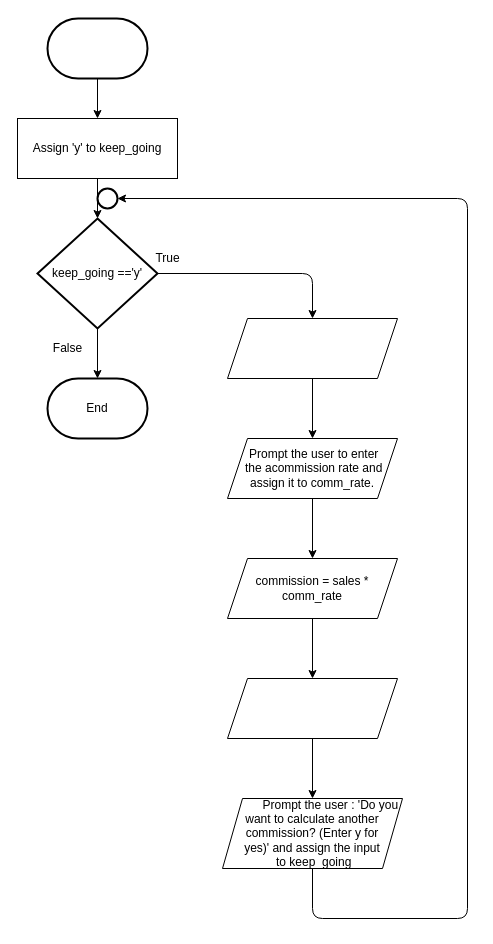
Image size: 493x944. Some labels were removed from this diagram. The centre of each missing label's shape, as x and y in pixels:
Display the commission: the point at 312,708
Prompt the user to enter the amount of sales and assign it to sales.: the point at 312,348
start: the point at 97,48
